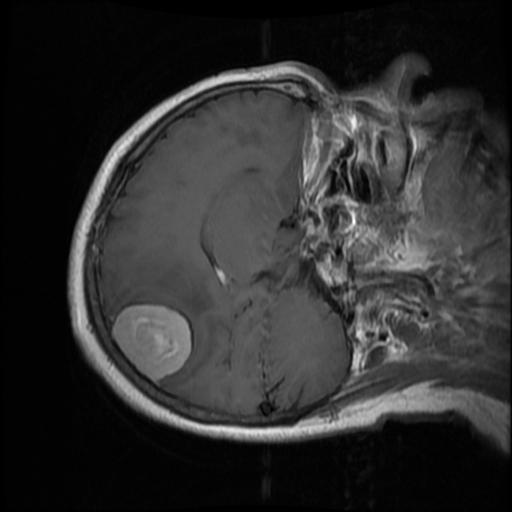meningioma: (112, 303, 192, 380)
